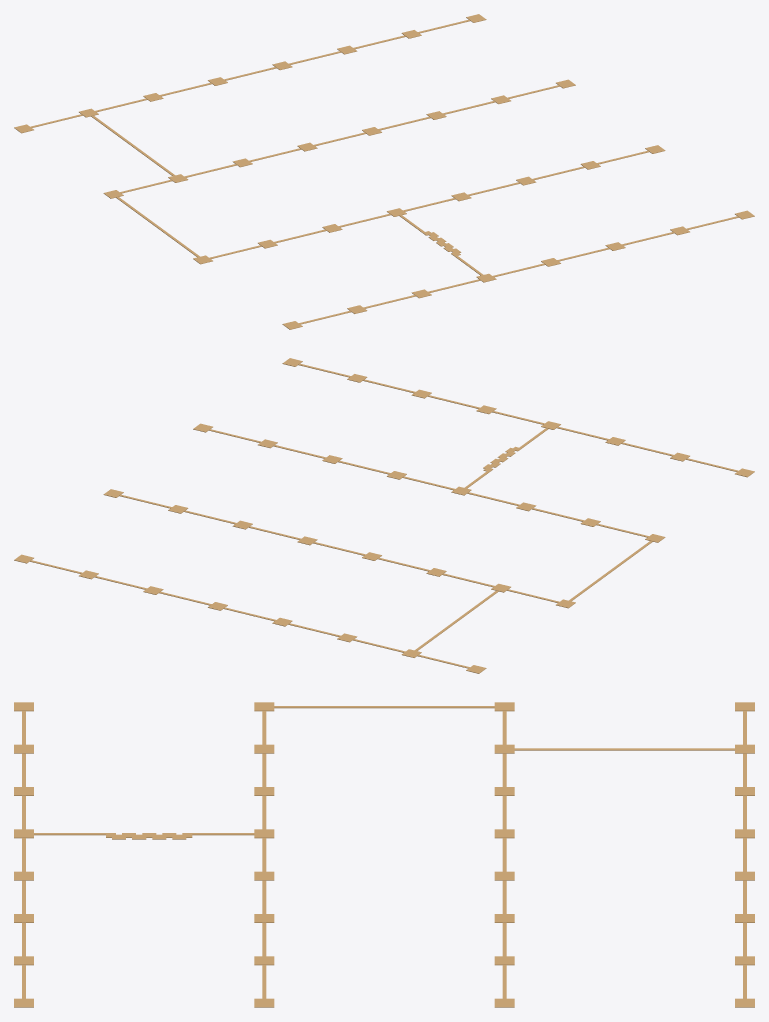
File: board.glb
3 renders of one model, top to bottom at view 1: azimuth 30°, elevation 25°; view 2: azimuth 150°, elevation 25°; view 3: azimuth 270°, elevation 25°, orthographic. The views are drawn at different scales.
Parts seen in each view (by area): view 1: Unified_Net_1_Contour_0; view 2: Unified_Net_1_Contour_0; view 3: Unified_Net_1_Contour_0.
Boxes of the visible parts, x1,y1,x2,y2 form: Unified_Net_1_Contour_0: [30, 19, 738, 329]; Unified_Net_1_Contour_0: [30, 363, 754, 668]; Unified_Net_1_Contour_0: [14, 702, 746, 998].
Size of the model in its own units: 0.036 by 5.25e-05 by 0.037.
